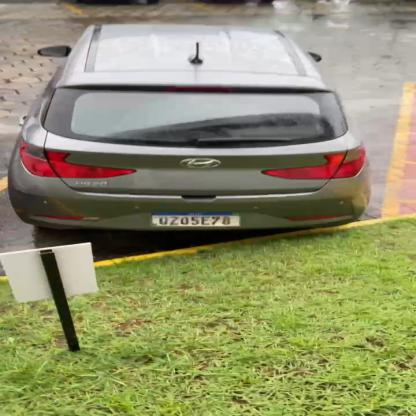Plate: (152, 209, 246, 232)
